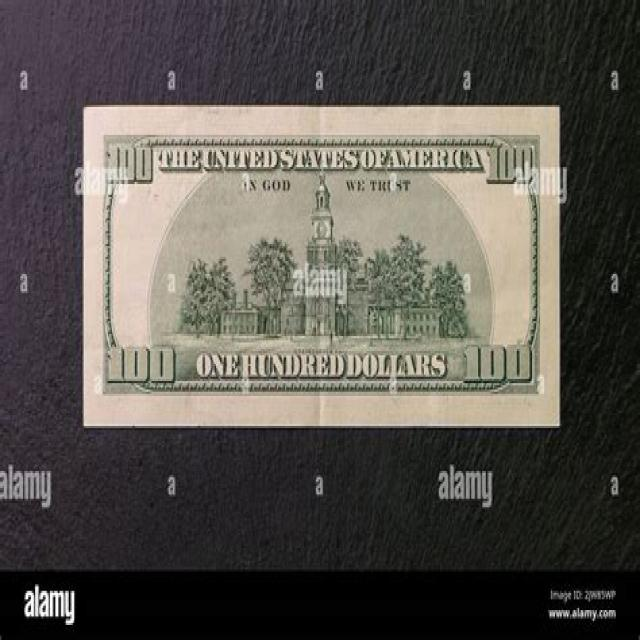Hundred: (83, 106, 561, 429)
